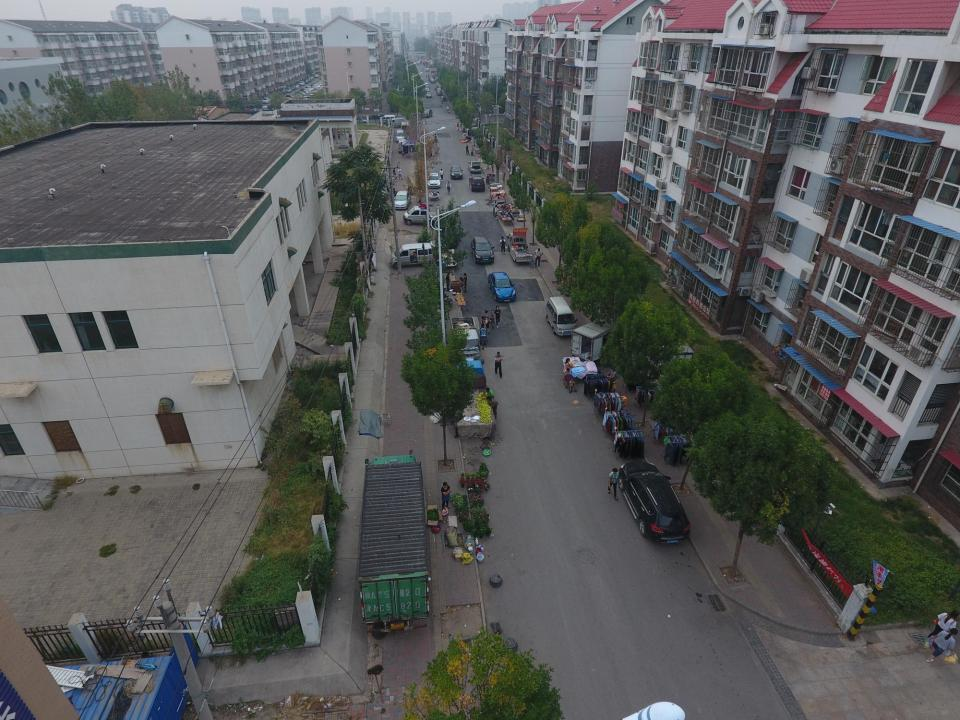car: (618, 460, 690, 544), (488, 272, 516, 301), (470, 236, 495, 264), (393, 190, 411, 210), (468, 176, 486, 192), (427, 173, 441, 188), (450, 165, 463, 180), (467, 161, 482, 173), (350, 116, 368, 124), (420, 108, 433, 118), (367, 112, 385, 119)
truck: (359, 450, 430, 634), (449, 358, 496, 437), (570, 318, 622, 363), (403, 205, 446, 226), (506, 232, 534, 262)
van: (390, 240, 446, 269), (545, 296, 578, 336), (397, 138, 408, 154), (387, 118, 404, 128), (380, 115, 396, 124), (396, 130, 404, 144), (402, 121, 410, 132)
